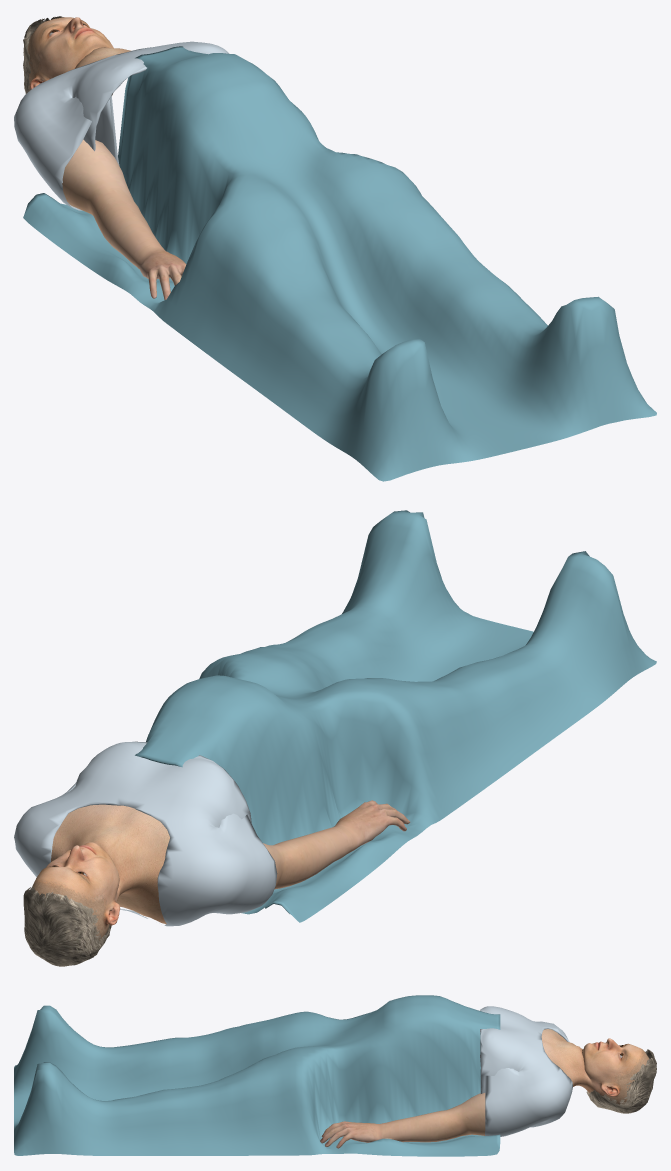
3 renders of one model, top to bottom at view 1: azimuth 30°, elevation 25°; view 2: azimuth 150°, elevation 25°; view 3: azimuth 270°, elevation 25°, orthographic. The views are drawn at different scales.
Visible parts, largest first — view 1: sheet, gown, arms, body; view 2: sheet, gown, body, arms, hair; view 3: sheet, gown, body, arms, hair.
Part boxes in pixels (<box>): sheet: <box>23,46,656,481</box>; gown: <box>14,41,229,210</box>; arms: <box>62,139,186,299</box>; body: <box>27,17,131,91</box>; sheet: <box>135,510,656,922</box>; gown: <box>14,741,277,926</box>; body: <box>32,804,169,940</box>; arms: <box>263,800,410,889</box>; hair: <box>23,887,111,966</box>; sheet: <box>14,995,500,1156</box>; gown: <box>480,1006,572,1136</box>; body: <box>541,1029,648,1104</box>; arms: <box>320,1093,485,1148</box>; hair: <box>586,1049,656,1113</box>.
Bounding box in the file's own units: 0.6454 × 0.3624 × 1.92.
8 materials, 6 textured.
